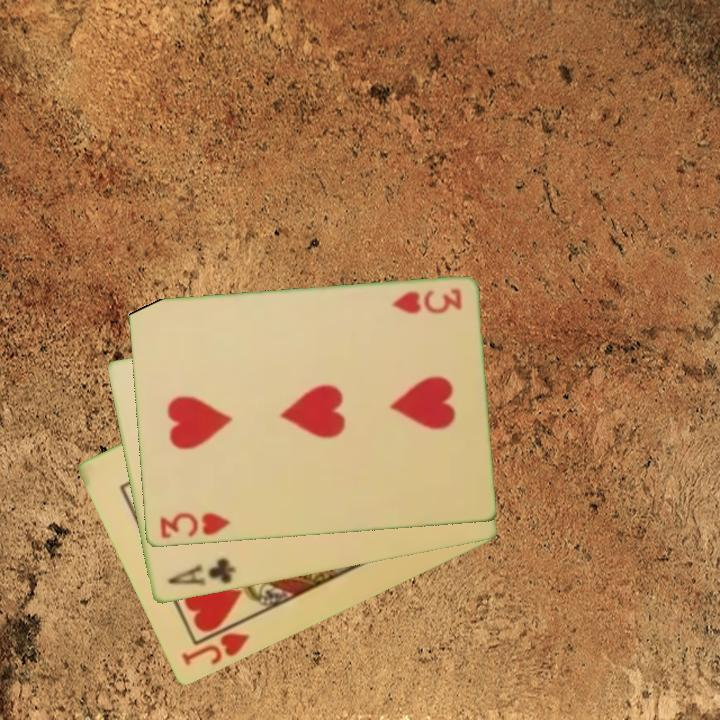3h: (156, 510, 234, 542), (388, 285, 464, 317)
Ac: (164, 555, 238, 590)
Jh: (177, 629, 253, 669)
